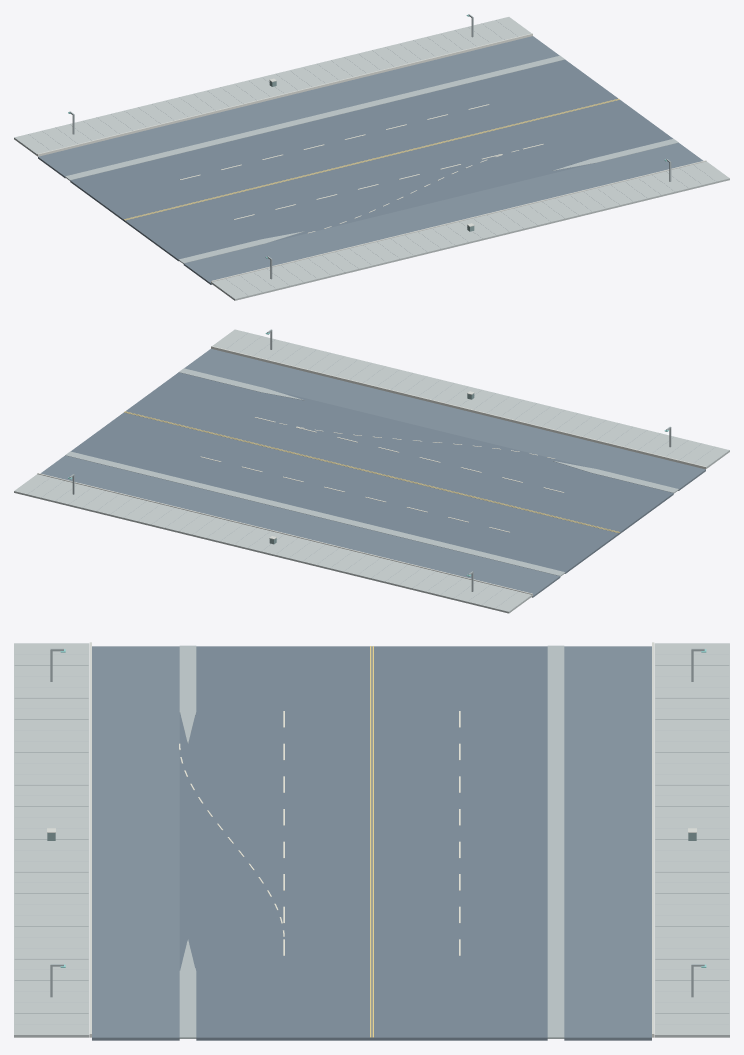
File: city-w68-s59.glb
3 renders of one model, top to bottom at view 1: azimuth 30°, elevation 25°; view 2: azimuth 150°, elevation 25°; view 3: azimuth 270°, elevation 25°, orthographic. The views are drawn at different scales.
Parts seen in each view (by area): view 1: Main_road, Frontage_roads, Sidewalk, Medians, Curbs, Paving_joints, Merge_surface, Center_lines, Lane_markings; view 2: Main_road, Frontage_roads, Sidewalk, Medians, Curbs, Paving_joints, Merge_surface, Center_lines, Lane_markings; view 3: Main_road, Frontage_roads, Sidewalk, Medians, Paving_joints, Merge_surface, Curbs, Center_lines.
Part boxes in pixels (x1,y1,x2,y2): Main_road: [70, 59, 672, 261]; Frontage_roads: [38, 36, 703, 284]; Sidewalk: [14, 17, 729, 300]; Medians: [65, 55, 678, 263]; Curbs: [37, 33, 706, 283]; Paving_joints: [14, 20, 716, 298]; Merge_surface: [267, 160, 593, 242]; Center_lines: [124, 98, 619, 220]; Lane_markings: [180, 104, 543, 219]; Main_road: [71, 372, 673, 573]; Frontage_roads: [40, 349, 705, 597]; Sidewalk: [14, 329, 729, 613]; Medians: [65, 368, 678, 576]; Curbs: [37, 346, 706, 596]; Paving_joints: [27, 333, 729, 611]; Merge_surface: [264, 390, 588, 472]; Center_lines: [124, 411, 619, 532]; Lane_markings: [200, 417, 563, 532]; Main_road: [196, 646, 547, 1040]; Frontage_roads: [92, 646, 651, 1040]; Sidewalk: [14, 643, 729, 1037]; Medians: [179, 645, 564, 1038]; Paving_joints: [14, 643, 729, 1024]; Merge_surface: [179, 713, 196, 970]; Curbs: [89, 642, 654, 1037]; Center_lines: [370, 646, 373, 1037].
Bounding box in the file's own units: 72 × 3.26 × 55.65.
